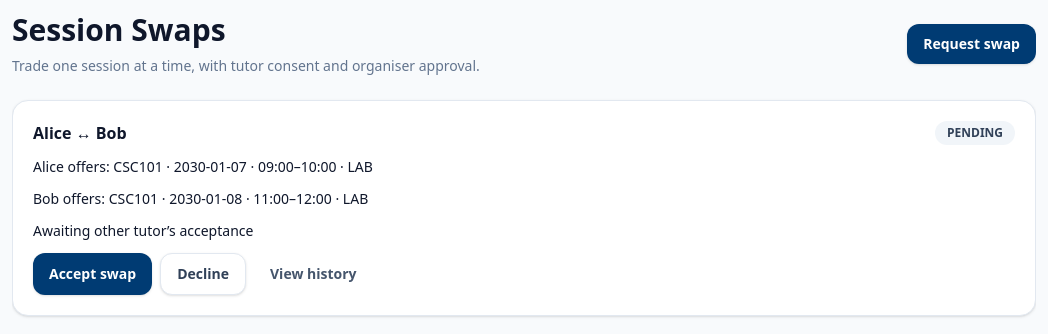
Dated session swap interface › accepts without applying assignments and refreshes the waiting state
The width and height of the screenshot is (1048, 334).
What coordinates should you click on to do the following:
click the button "Accept swap"
I would click on:
 (93, 274)
Its box is 33,253 -> 152,295.
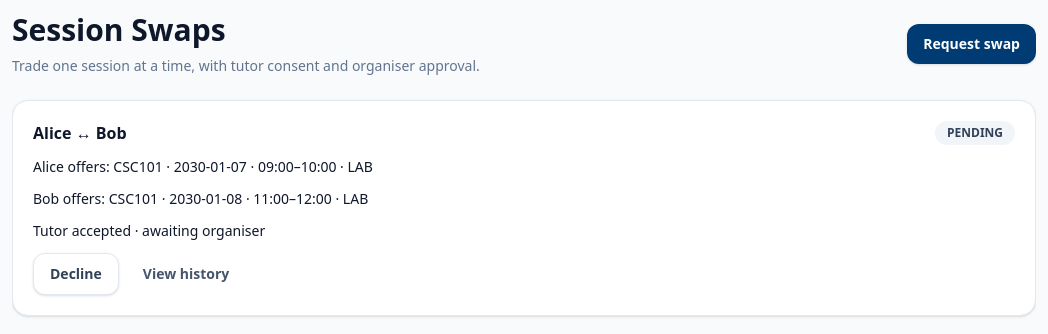
Expected: the text "Tutor accepted · awaiting organiser" is shown, 33,221 -> 265,240
